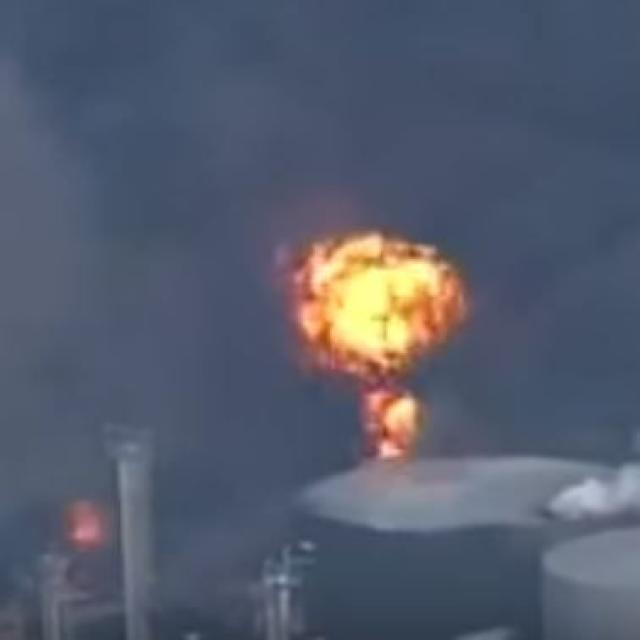Fire: (297, 234, 465, 444), (54, 494, 113, 547)
Smoke: (7, 6, 640, 590)
